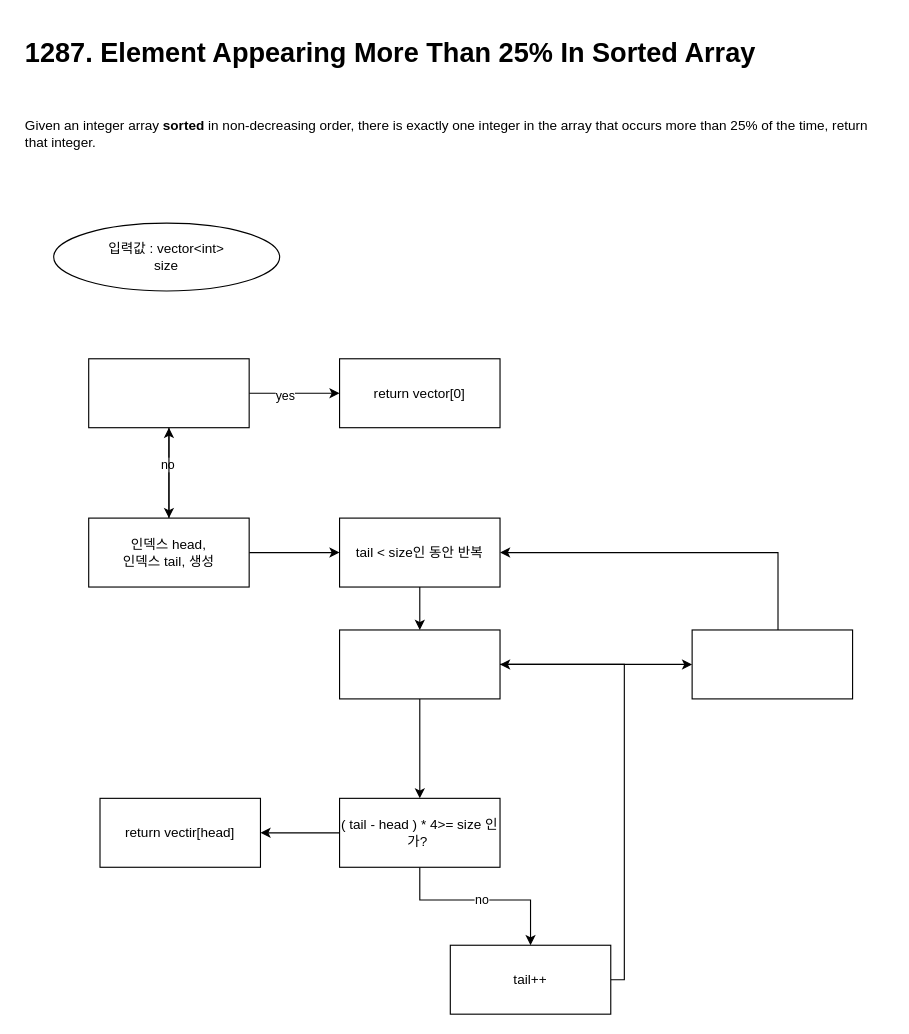
Image size: 909x1034. Some labels were removed from this diagram. The shapes that lost their labels are listed below. From the top down, each one's box as (x1, y1, x2, y2) in pixels, then its label:
(88, 358, 249, 428): 벡터의 길이가 2개 이하인가?
(338, 629, 500, 699): head == tail일 동안 반복
(691, 629, 853, 699): head = tail tail = head + 1
